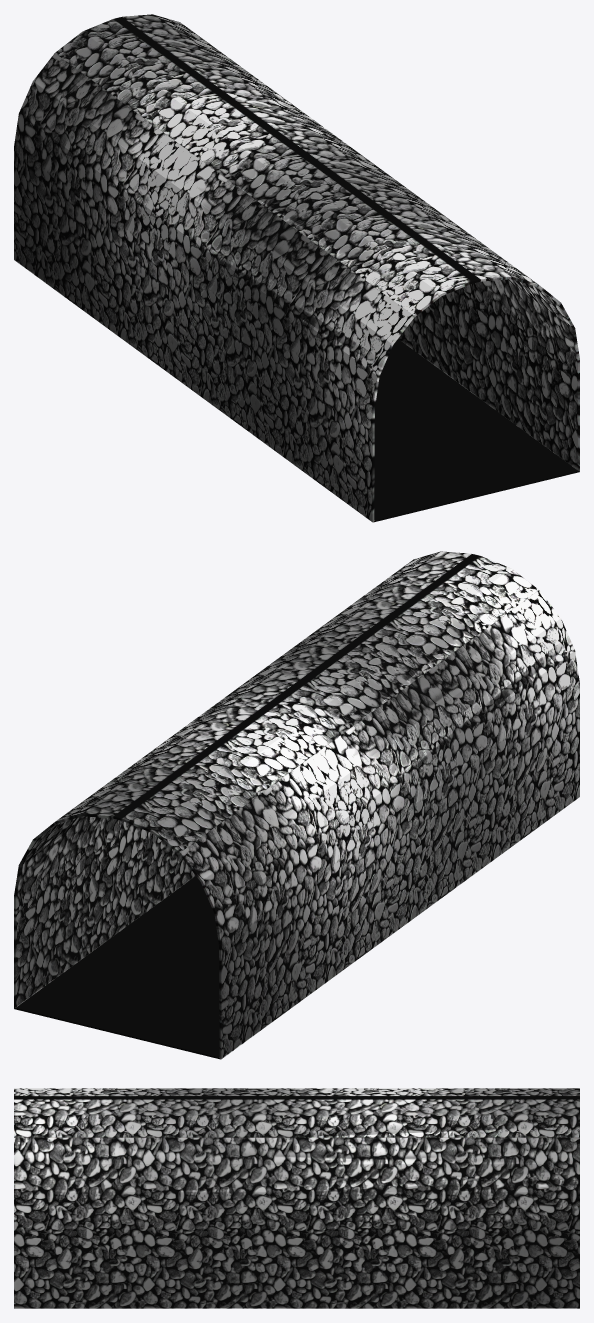
Rendered from Tunnel.fbx.
3 renders of one model, top to bottom at view 1: azimuth 30°, elevation 25°; view 2: azimuth 150°, elevation 25°; view 3: azimuth 270°, elevation 25°, orthographic. The views are drawn at different scales.
Visible parts, largest first — view 1: Tunnel; view 2: Tunnel; view 3: Tunnel.
Part boxes in pixels (x1,y1,x2,y2): Tunnel: [14, 14, 579, 522]; Tunnel: [14, 551, 579, 1059]; Tunnel: [14, 1088, 579, 1308].
Bounding box in the file's own units: 200 × 200 × 600.
